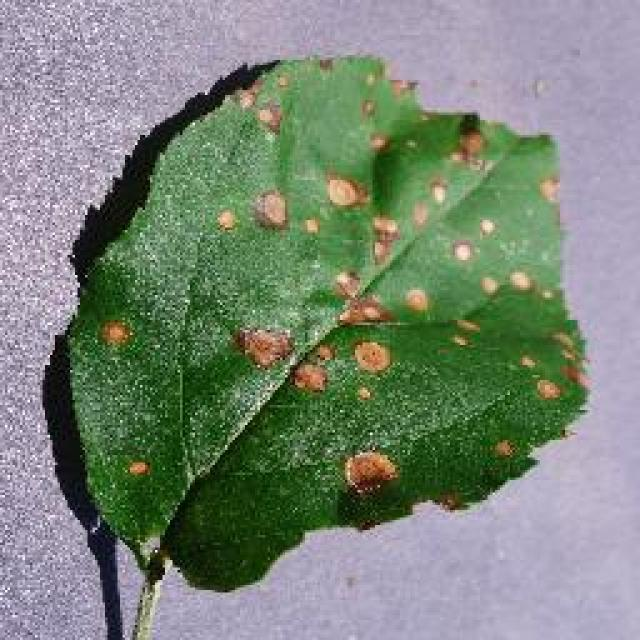apple scab disease: (58, 50, 592, 595)
